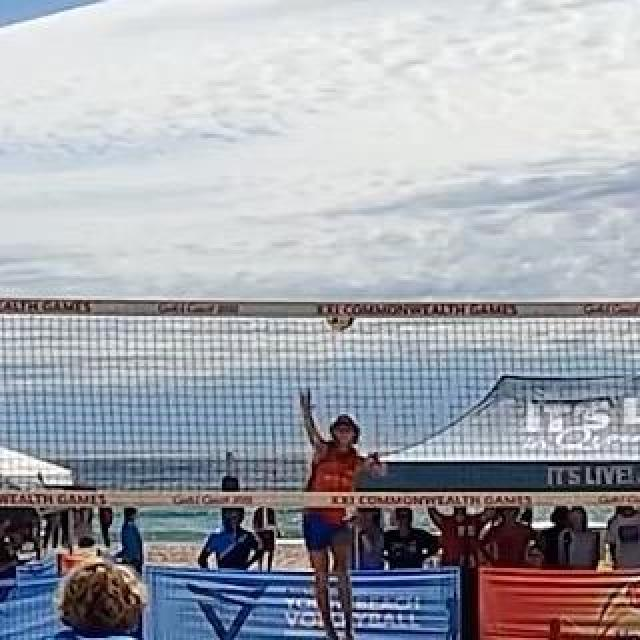volleyball: (326, 299, 356, 331)
